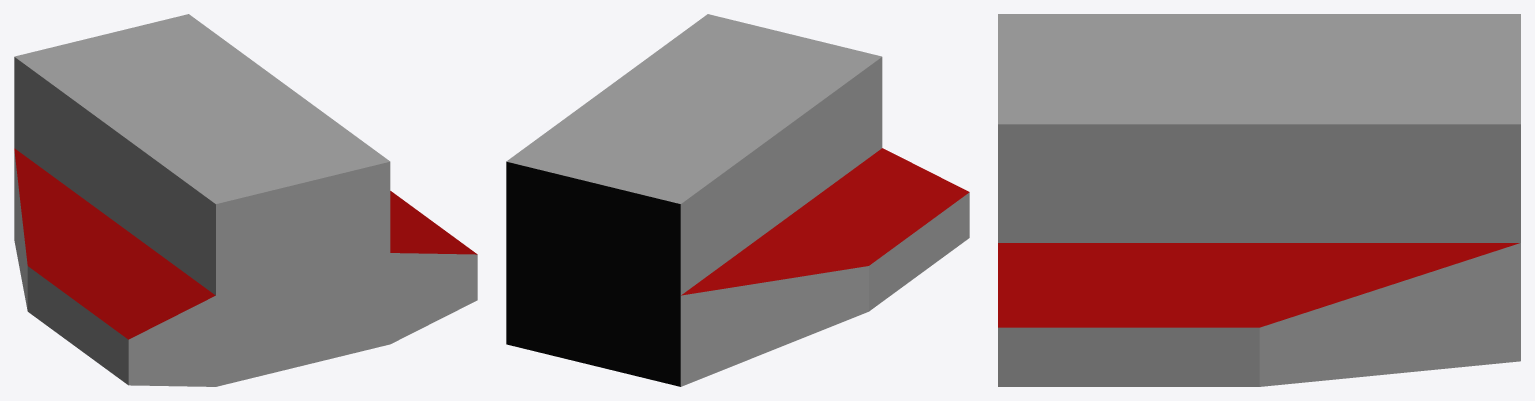
File: ship.obj
3 views of the same model, side by side, from view 1: azimuth 30°, elevation 25°; view 2: azimuth 150°, elevation 25°; view 3: azimuth 270°, elevation 25° (orthographic). The views are drawn at different scales.
Visible parts, largest first — view 1: Ship_ship; view 2: Ship_ship; view 3: Ship_ship.
Part boxes in pixels (bbox=[...]): Ship_ship: bbox=[14, 14, 477, 386]; Ship_ship: bbox=[506, 14, 969, 386]; Ship_ship: bbox=[998, 14, 1520, 386].
Size of the model in its own units: 2 by 1 by 2.
